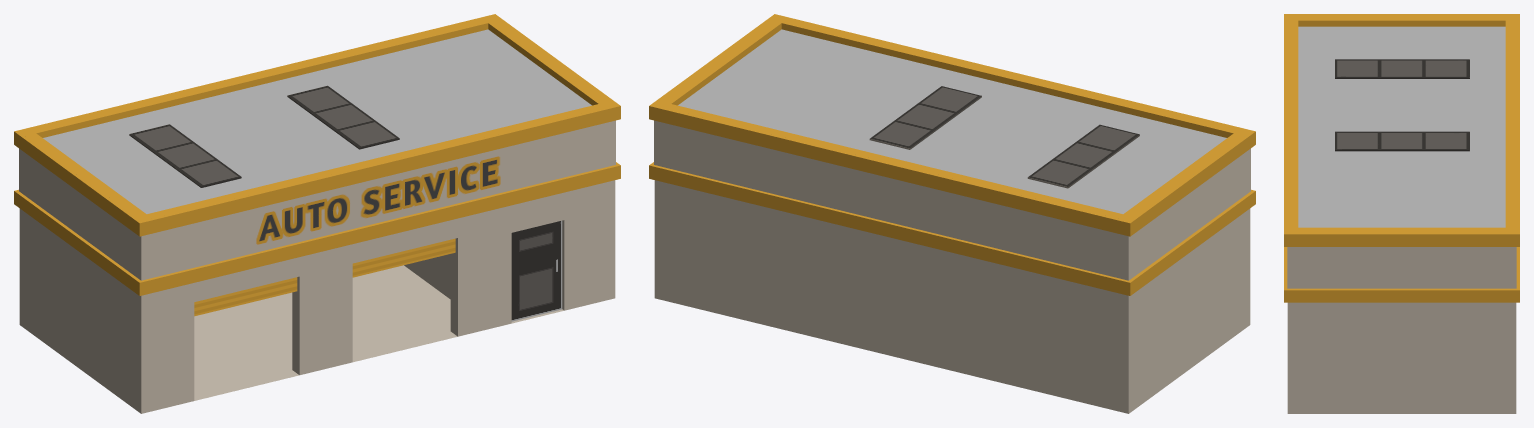
The model's file is Building_Auto_Service.glb.
The picture shows the model from 3 angles, left to right: view 1: azimuth 30°, elevation 25°; view 2: azimuth 150°, elevation 25°; view 3: azimuth 270°, elevation 25°; orthographic projection. The views are drawn at different scales.
Parts seen in each view (by area): view 1: Building_Auto Service; view 2: Building_Auto Service; view 3: Building_Auto Service.
Boxes of the visible parts, <box> form: Building_Auto Service: <box>14,14,620,413</box>; Building_Auto Service: <box>649,14,1255,413</box>; Building_Auto Service: <box>1284,14,1519,413</box>.
Size of the model in its own units: 18.27 by 7 by 8.26.
1 material, 1 textured.
